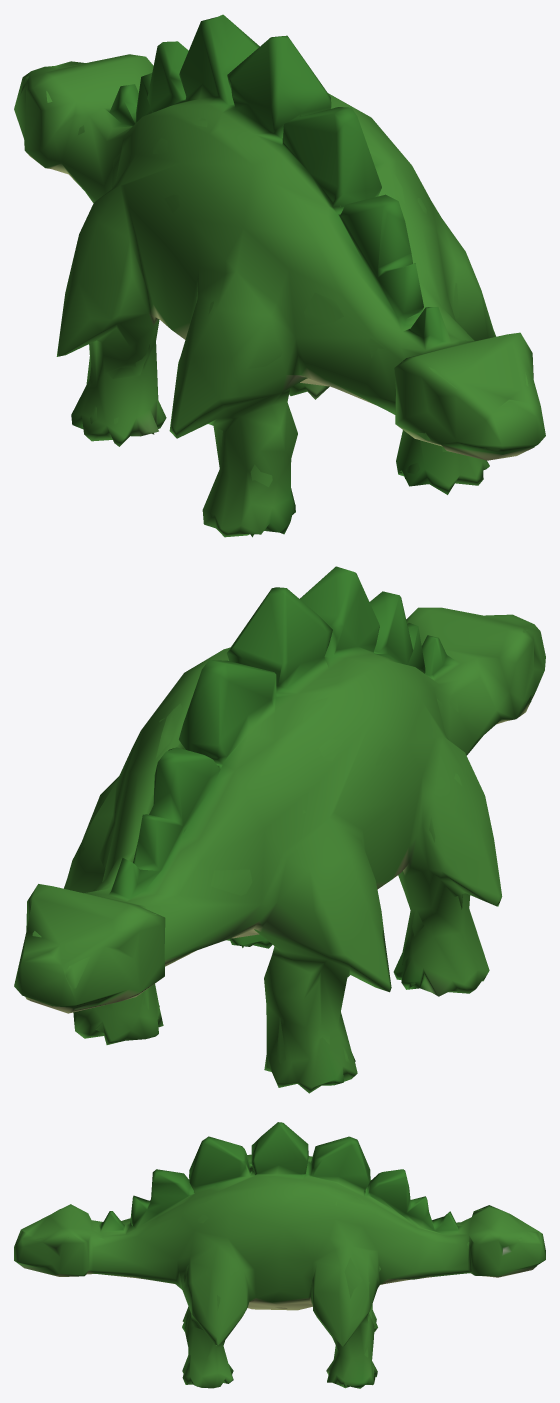
Rendered from gen3d-stegosaurus-lod0.glb.
The picture shows the model from 3 angles, top to bottom: view 1: azimuth 30°, elevation 25°; view 2: azimuth 150°, elevation 25°; view 3: azimuth 270°, elevation 25°; orthographic projection. The views are drawn at different scales.
Visible parts, largest first — view 1: part_0; view 2: part_0; view 3: part_0.
Boxes of the visible parts, left/top/right/bottom form: part_0: left=14, top=14, right=545, bottom=537; part_0: left=14, top=566, right=545, bottom=1093; part_0: left=14, top=1122, right=545, bottom=1388.
Size of the model in its own units: 0.8345 by 0.9967 by 2.07.
